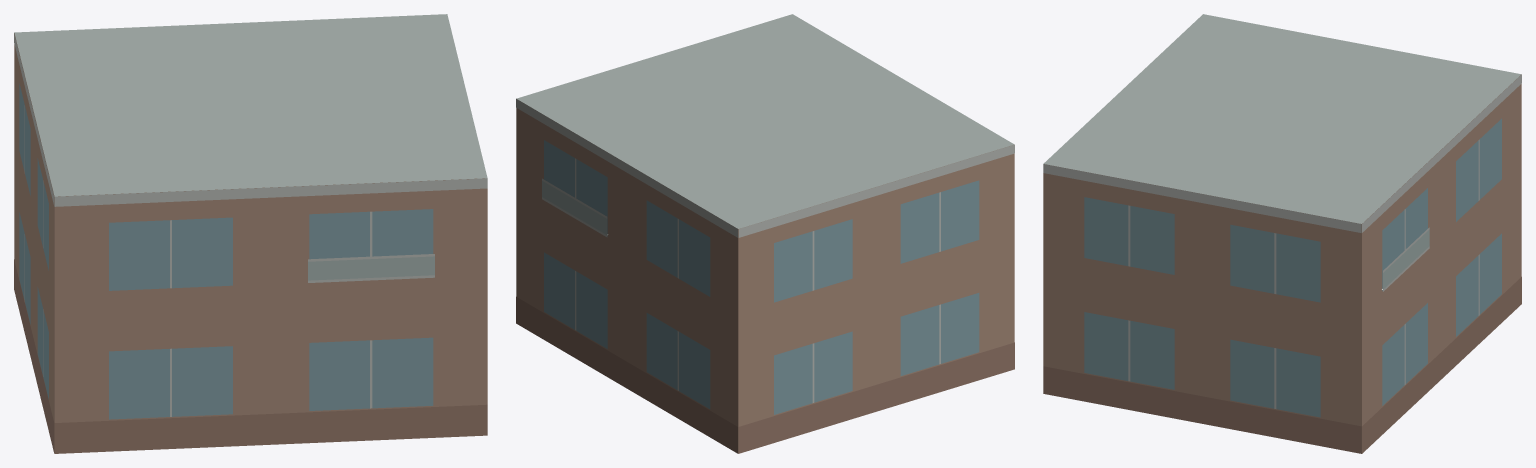
File: survey-upis-32954283.glb
3 views of the same model, side by side, from view 1: azimuth 30°, elevation 25°; view 2: azimuth 150°, elevation 25°; view 3: azimuth 270°, elevation 25° (orthographic). The views are drawn at different scales.
Parts seen in each view (by area): view 1: survey-upis-32954283.tmp; view 2: survey-upis-32954283.tmp; view 3: survey-upis-32954283.tmp.
Boxes of the visible parts, x1=… form: survey-upis-32954283.tmp: x1=14, y1=14, x2=487, y2=453; survey-upis-32954283.tmp: x1=516, y1=14, x2=1014, y2=453; survey-upis-32954283.tmp: x1=1043, y1=14, x2=1521, y2=453.
Size of the model in its own units: 11.96 by 6.1 by 11.52.
